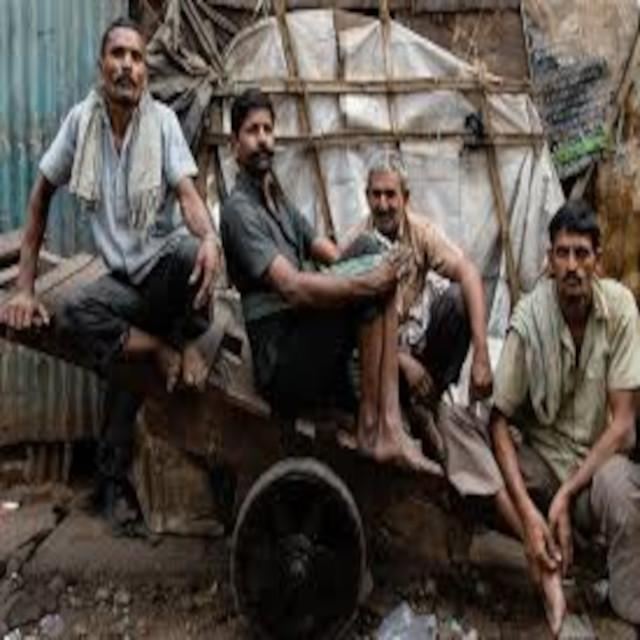mezczyzna: (14, 0, 222, 395), (231, 78, 403, 500), (496, 169, 640, 610), (336, 138, 490, 471)
